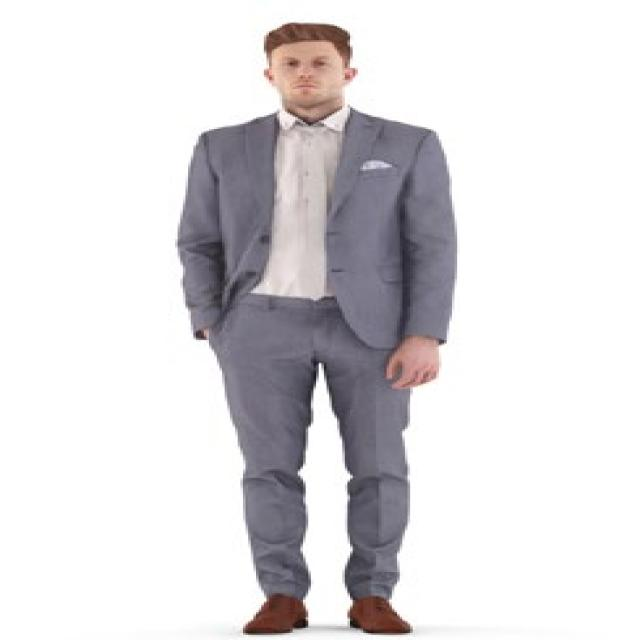standing: (172, 19, 461, 640)
